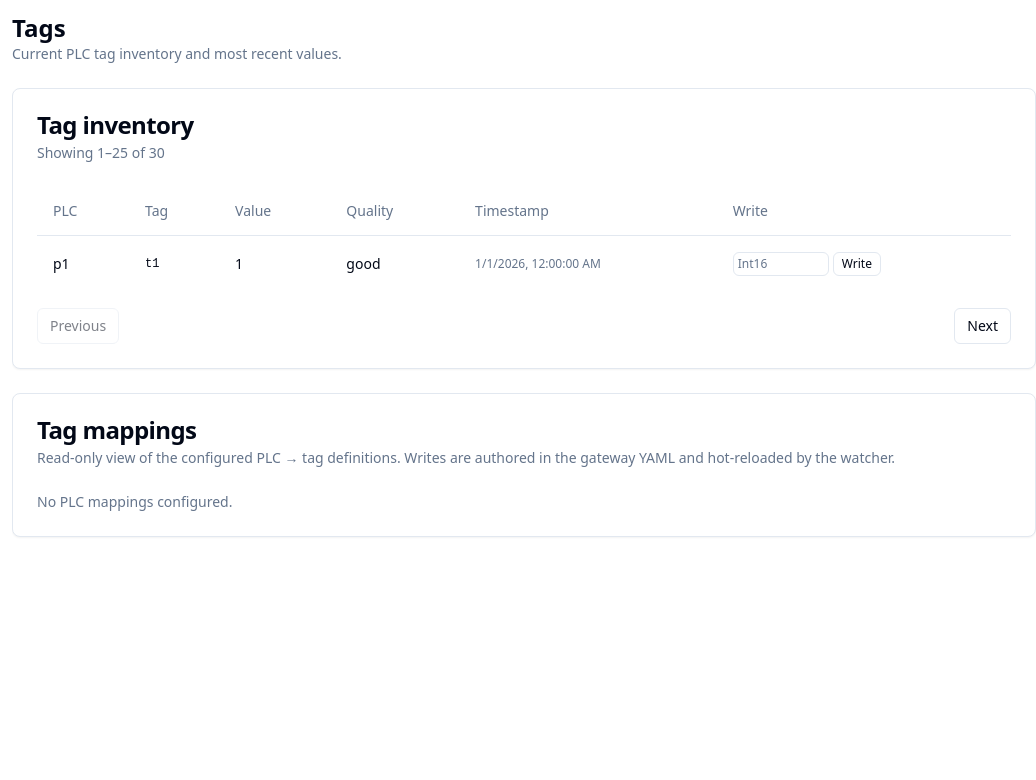
Test case: Tags page › returns to the last page when the tag count shrinks
This screenshot has width=1036, height=780.
Later steps or results of the test are not shown.
Click the button "Next" at (983,326), box [954,308,1011,344]
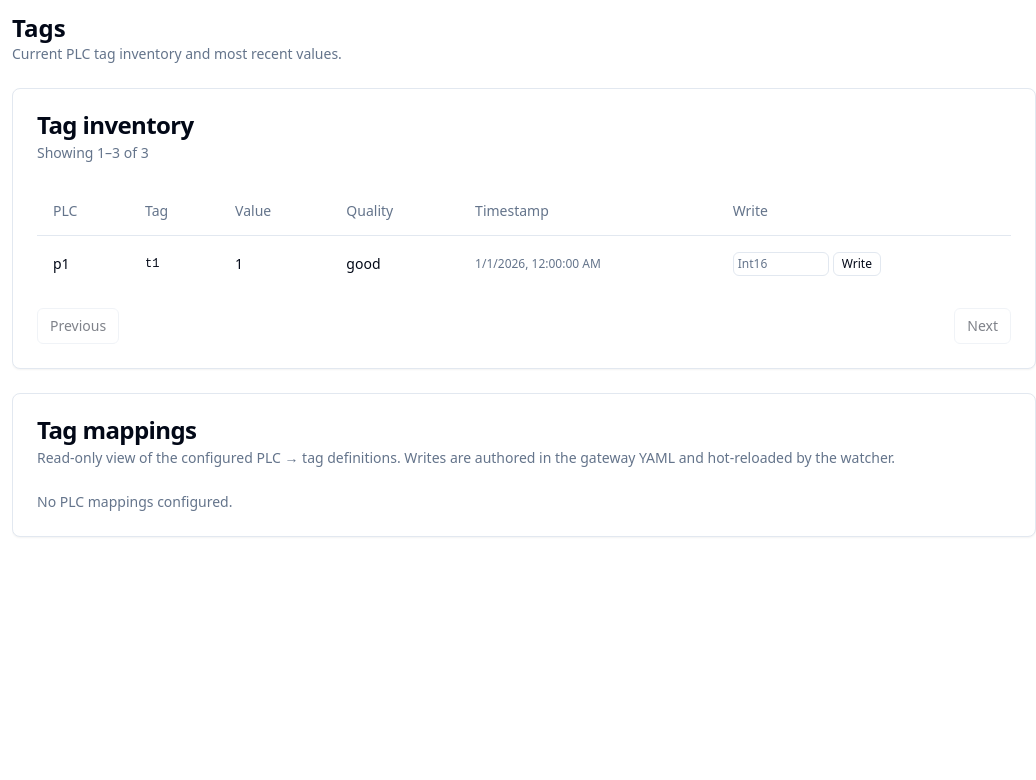
Expected: the button "Previous" is disabled, [37,308,119,344]
Result: the text "Showing 1–3 of 3" is shown at [37,143,149,162]
